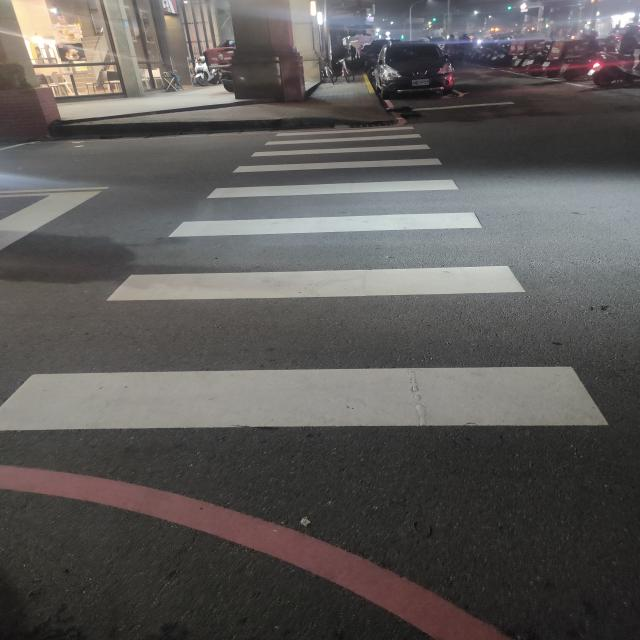zebra crossing: (0, 126, 610, 427)
